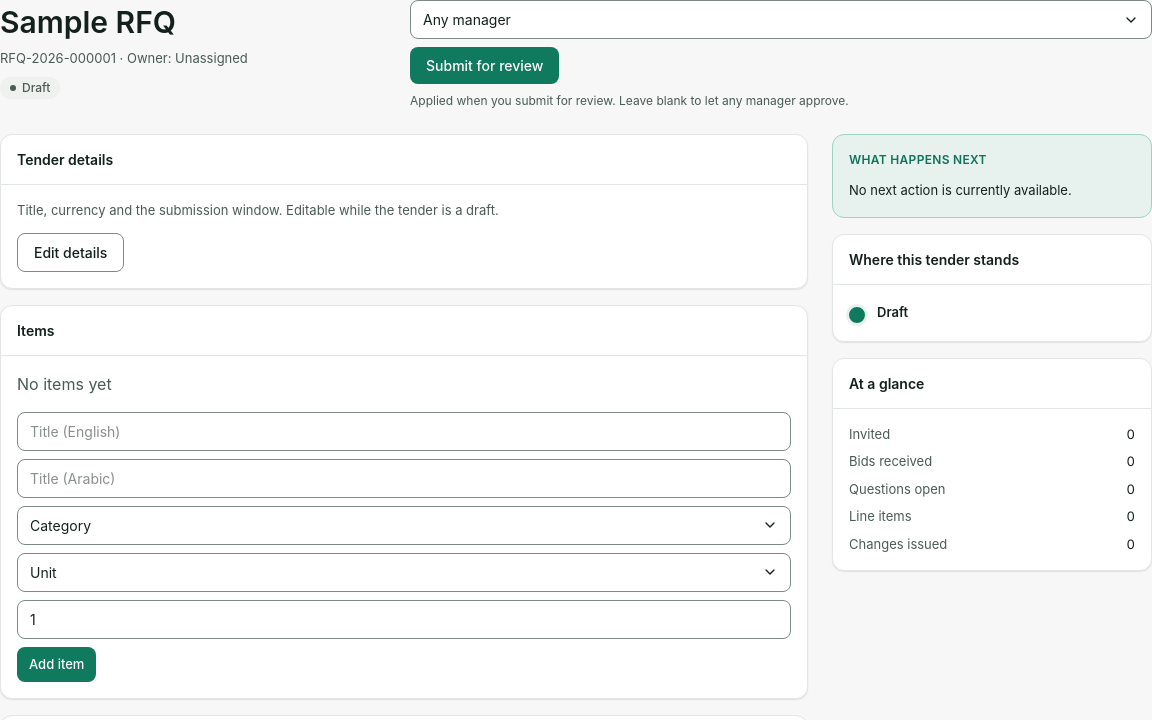
Test: RfqDetailPage › Draft: the tender's own dates can be edited, which is what Draft means
Click the button "Edit details" at x=71, y=252, box [17,232,124,272]
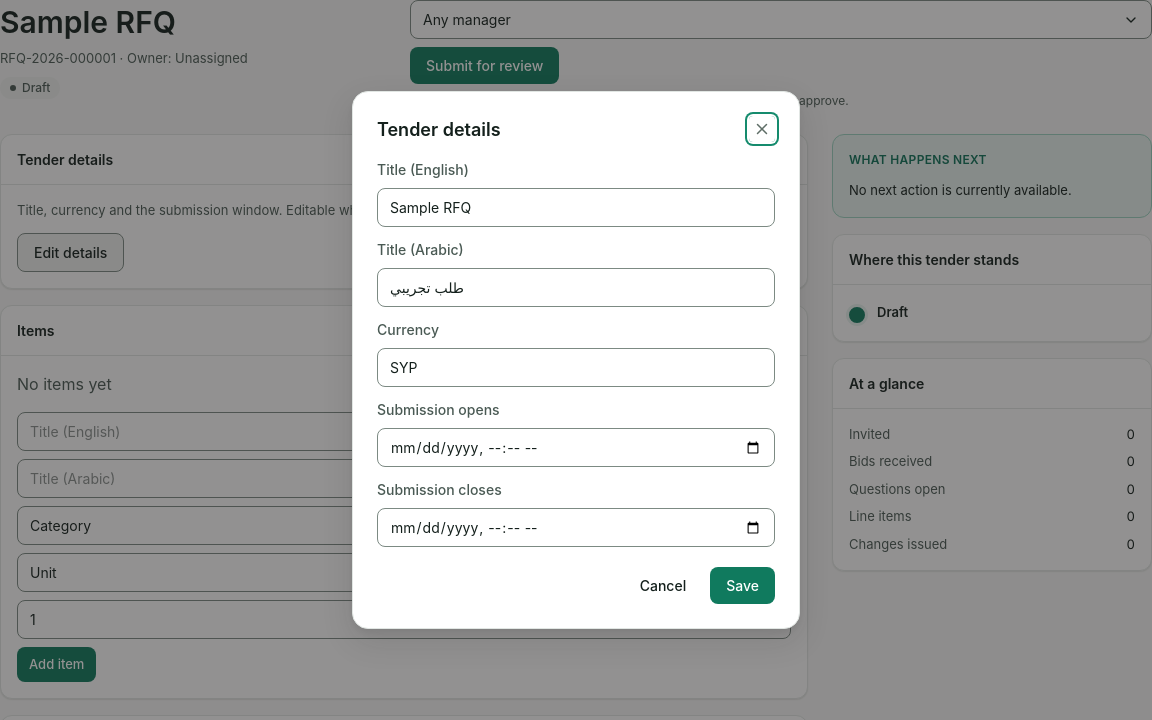
Type "2026-10-01T09:00" into the field labelled "Submission opens" at x=576, y=448, box [377,428,775,467]
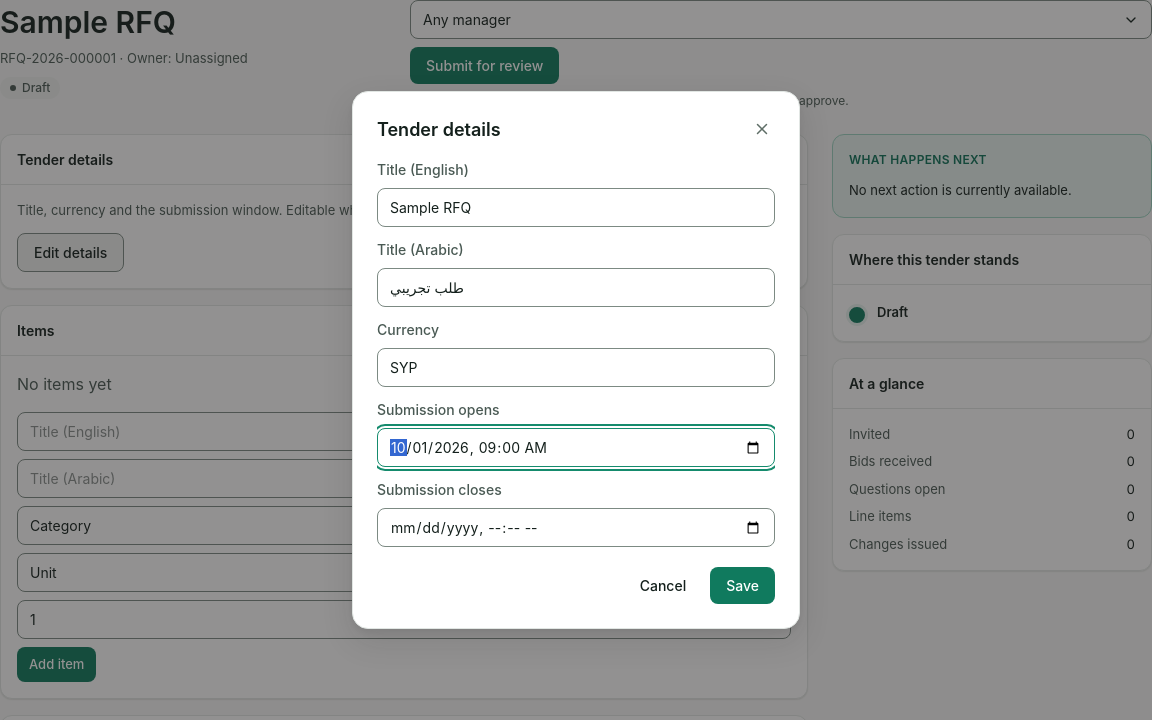
Click the button "Save" at x=743, y=586, box [710,567,775,604]
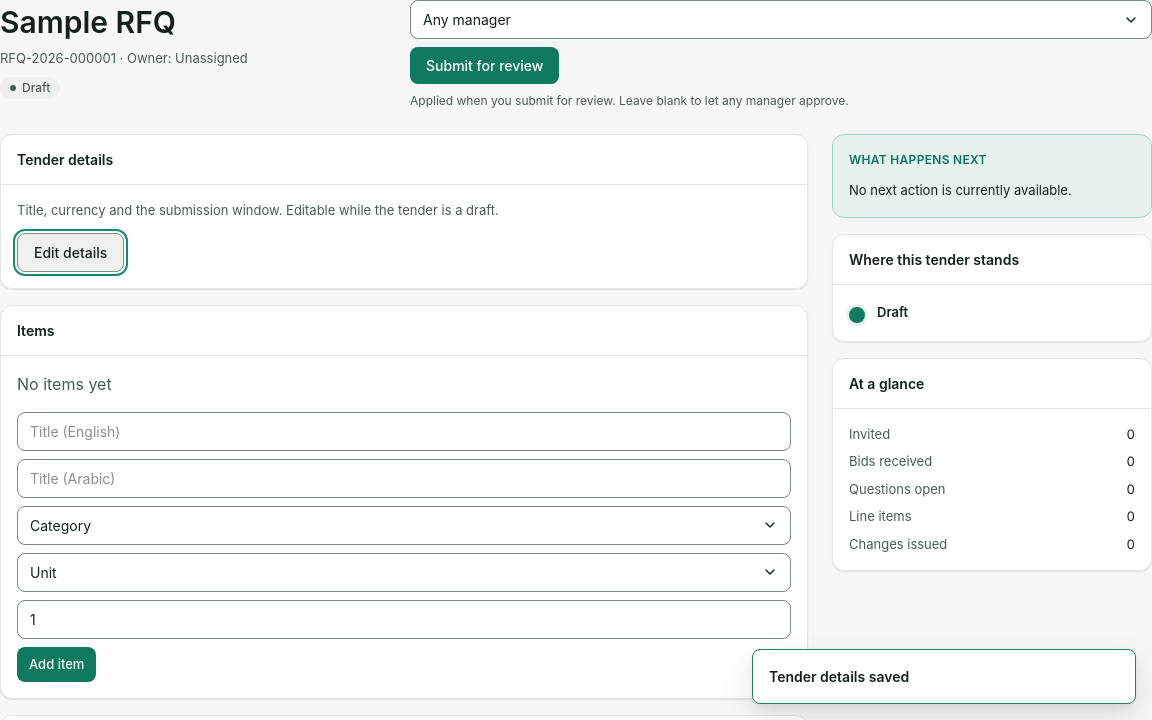
expect the text "Tender details saved" is shown: met, box [769,668,909,685]
